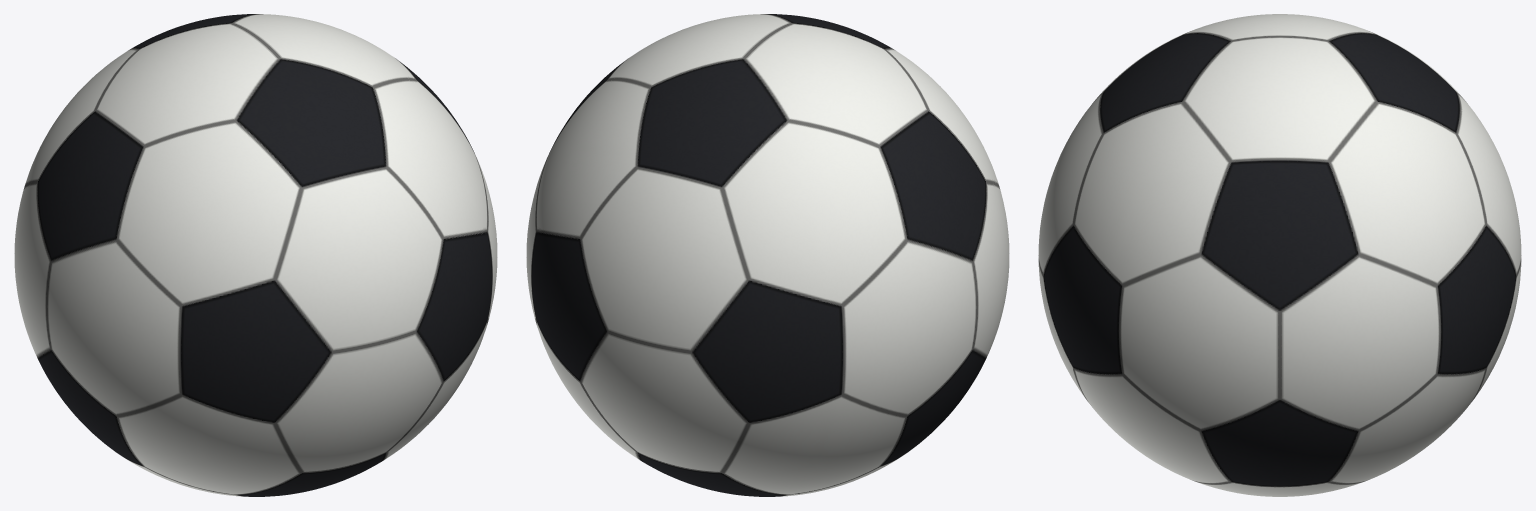
Rendered from soccer-ball.glb.
The picture shows the model from 3 angles, left to right: view 1: azimuth 30°, elevation 25°; view 2: azimuth 150°, elevation 25°; view 3: azimuth 270°, elevation 25°; orthographic projection.
Visible parts, largest first — view 1: Soccer ball.001; view 2: Soccer ball.001; view 3: Soccer ball.001.
Boxes of the visible parts, box(x1,y1,x2,y2) form: Soccer ball.001: box(14, 14, 497, 496); Soccer ball.001: box(526, 14, 1009, 496); Soccer ball.001: box(1038, 14, 1521, 496).
Bounding box in the file's own units: 0.2196 × 0.2196 × 0.2196.
Materials: 1 (1 with a texture image).
